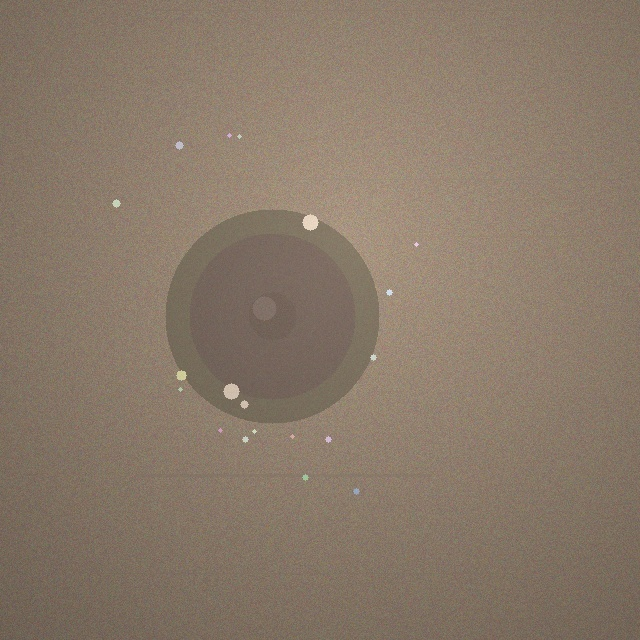overburn: (165, 209, 379, 423)
